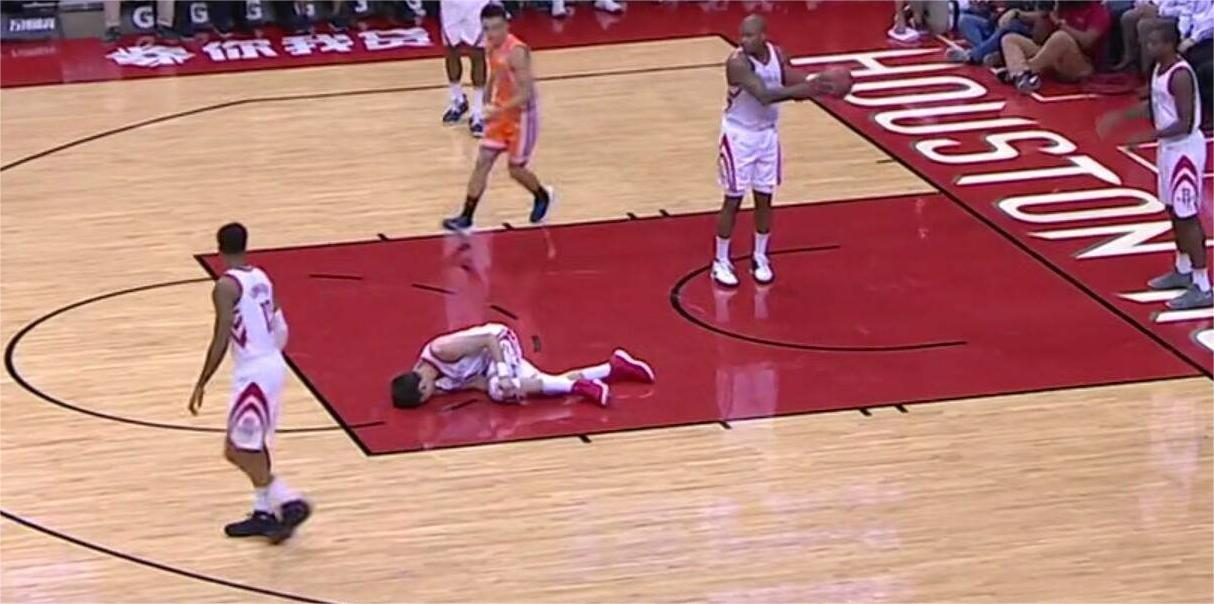down: (364, 297, 681, 438)
up: (184, 221, 325, 549), (701, 9, 849, 304), (442, 1, 559, 255), (1137, 15, 1213, 325)
